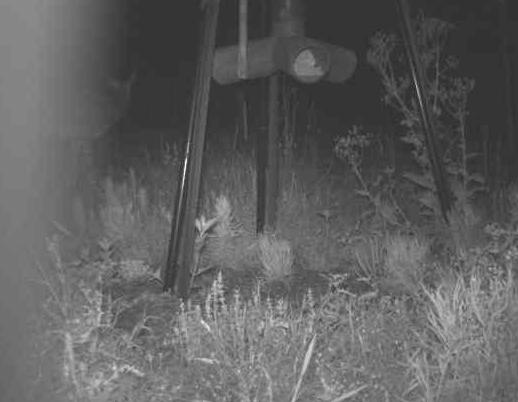Deer: (62, 68, 142, 183)
